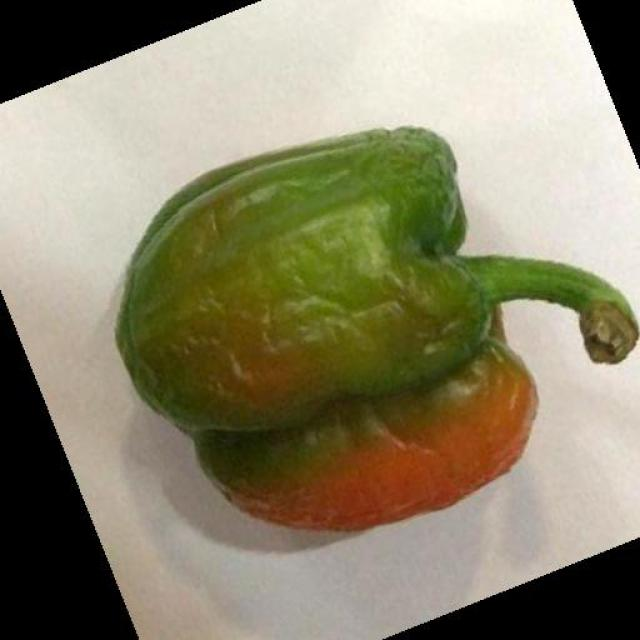Stale_Capsicum: (99, 116, 590, 522)
